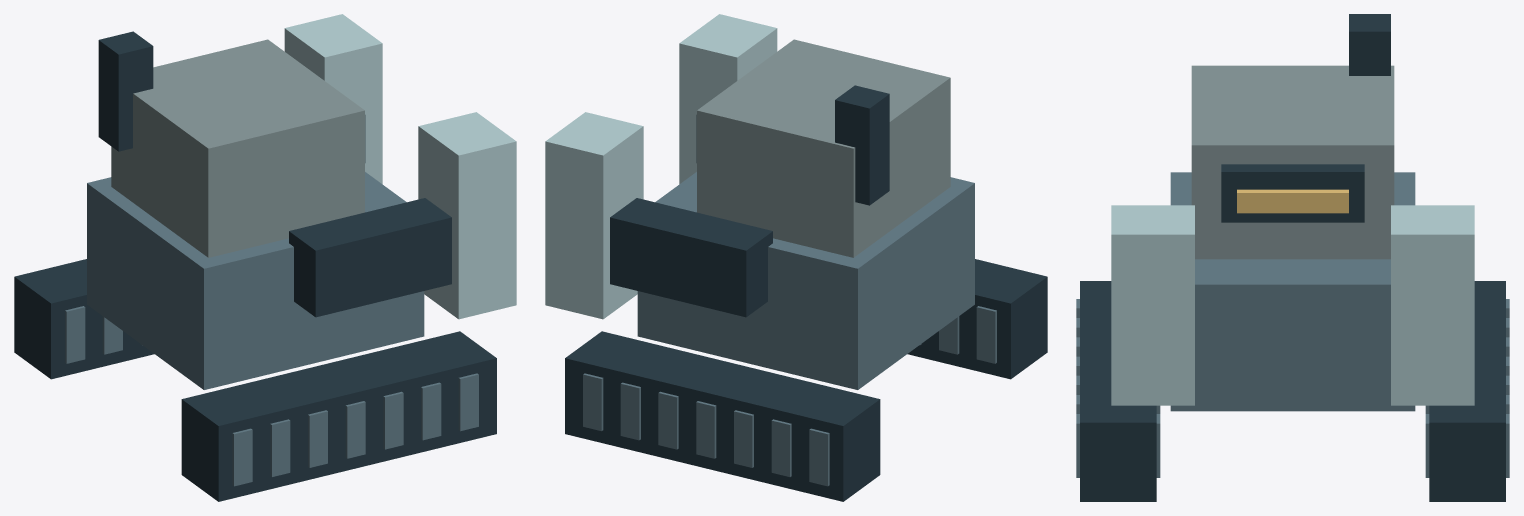
The model's file is frost-crusher.glb.
The picture shows the model from 3 angles, left to right: view 1: azimuth 30°, elevation 25°; view 2: azimuth 150°, elevation 25°; view 3: azimuth 270°, elevation 25°; orthographic projection. The views are drawn at different scales.
Parts seen in each view (by area): view 1: UpperHull, Tracks, Chassis, ToolClamps, ToolArms, TreadRibs, Exhaust; view 2: UpperHull, Tracks, Chassis, ToolClamps, ToolArms, TreadRibs, Exhaust; view 3: ToolClamps, Chassis, UpperHull, Tracks, OpticHousing, OpticLens, Exhaust, TreadRibs.
Part boxes in pixels (bbox=[...]): UpperHull: bbox=[111, 39, 364, 257]; Tracks: bbox=[14, 259, 496, 501]; Chassis: bbox=[87, 172, 424, 389]; ToolClamps: bbox=[284, 14, 516, 319]; ToolArms: bbox=[289, 198, 451, 317]; TreadRibs: bbox=[65, 306, 478, 486]; Exhaust: bbox=[98, 31, 153, 151]; UpperHull: bbox=[697, 39, 950, 257]; Tracks: bbox=[565, 259, 1047, 501]; Chassis: bbox=[637, 172, 974, 389]; ToolClamps: bbox=[545, 14, 777, 319]; ToolArms: bbox=[610, 198, 772, 317]; TreadRibs: bbox=[583, 306, 996, 486]; Exhaust: bbox=[835, 85, 889, 205]; ToolClamps: bbox=[1111, 205, 1474, 405]; Chassis: bbox=[1170, 172, 1415, 411]; UpperHull: bbox=[1191, 65, 1394, 259]; Tracks: bbox=[1080, 281, 1505, 501]; OpticHousing: bbox=[1221, 164, 1364, 222]; OpticLens: bbox=[1237, 189, 1348, 213]; Exhaust: bbox=[1349, 14, 1390, 75]; TreadRibs: bbox=[1076, 299, 1509, 477].
Size of the model in its own units: 5.4 by 5.7 by 6.2.
